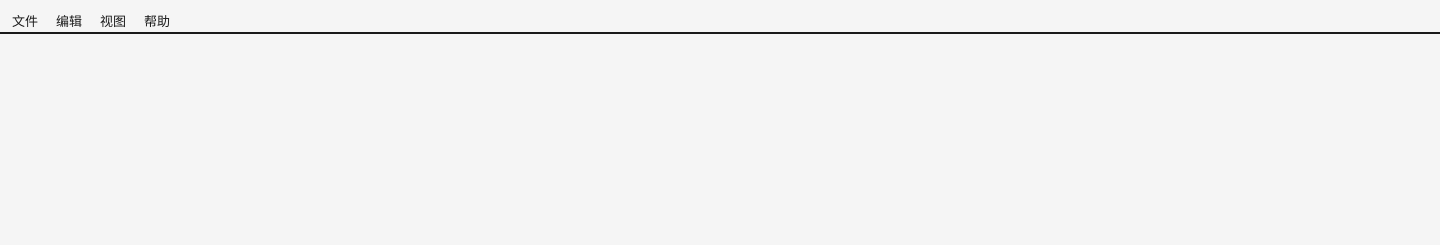
it: T87-02 MenuBarBand › M5 Esc 收起打开的下拉（最低完备交互）
The width and height of the screenshot is (1440, 245).
Click the button with test id "menu-bar-file": (25, 22) x1=4 y1=12 x2=46 y2=32
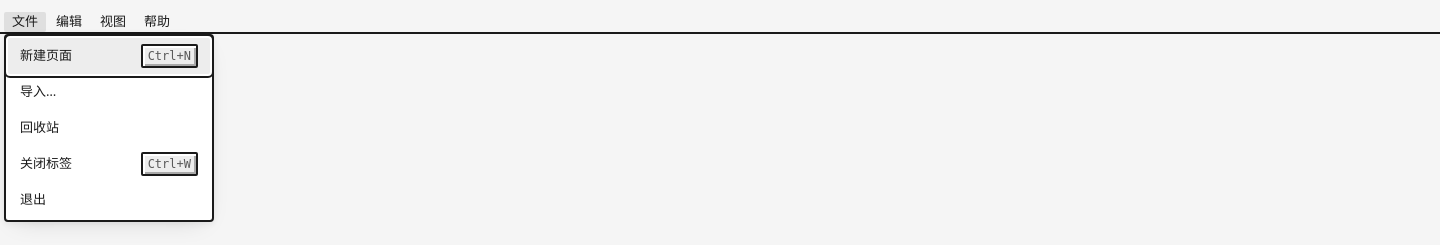
Check: the menu is shown, box x1=4 y1=34 x2=214 y2=222
Press Escape
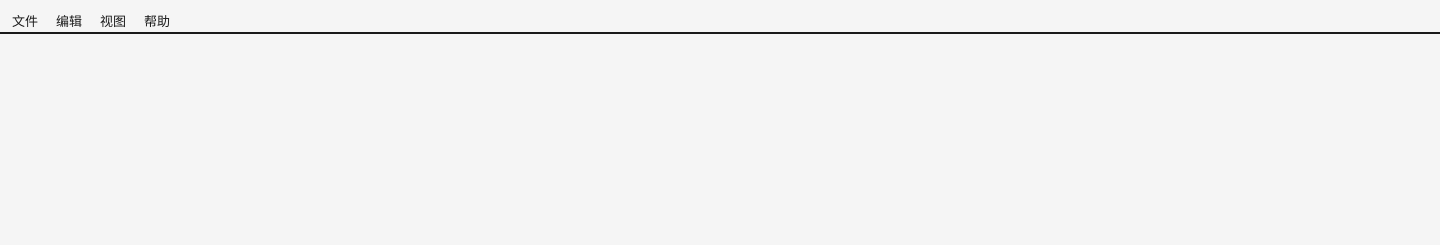
Check: the menu is gone
